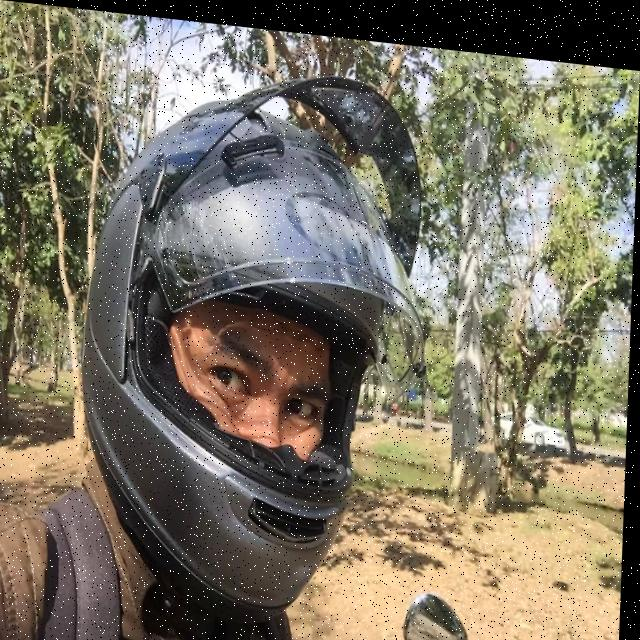helmet: (71, 39, 443, 640)
